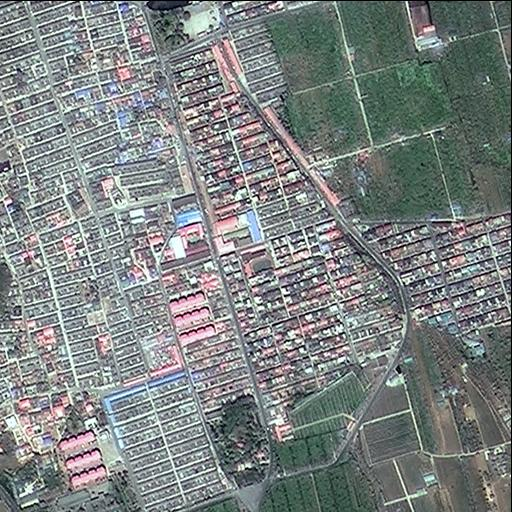school: (235, 242, 277, 281)
